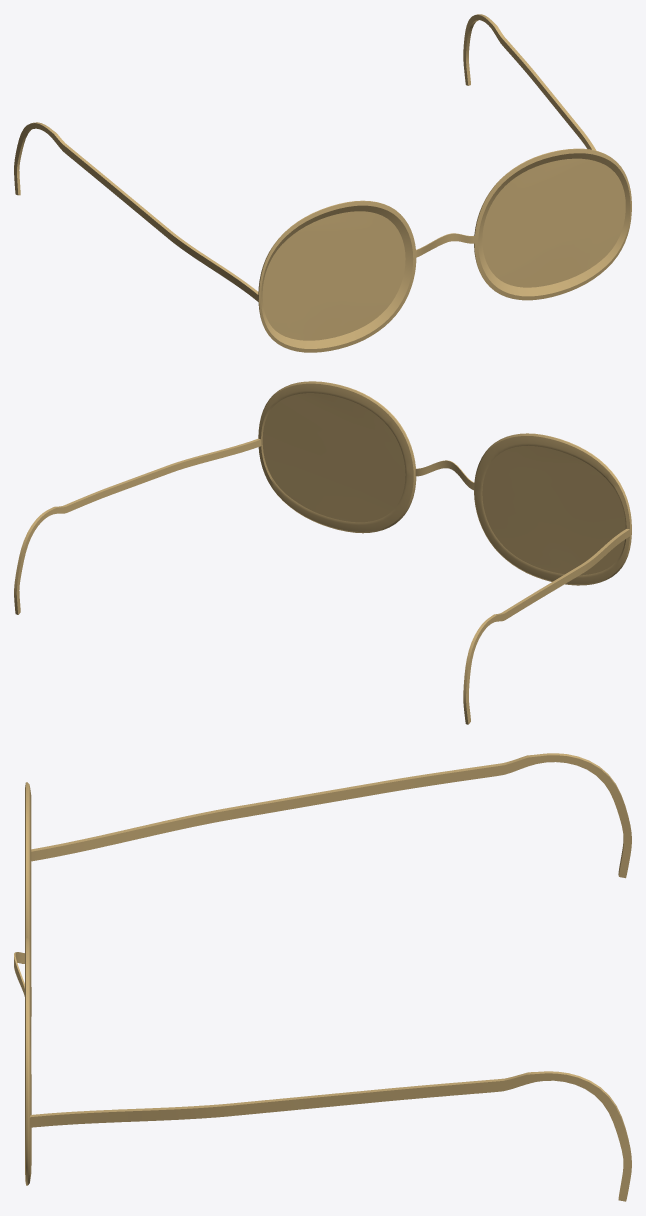
Rendered from glasses_round.glb.
3 views of the same model, one above another, from view 1: azimuth 30°, elevation 25°; view 2: azimuth 150°, elevation 25°; view 3: azimuth 270°, elevation 25° (orthographic). The views are drawn at different scales.
Visible parts, largest first — view 1: GlassesRound; view 2: GlassesRound; view 3: GlassesRound.
Boxes of the visible parts, box(x1,y1,x2,y2) form: GlassesRound: box(14, 14, 631, 352); GlassesRound: box(14, 381, 631, 724); GlassesRound: box(14, 753, 631, 1201).
Bounding box in the file's own units: 0.1524 × 0.0466 × 0.1221.
